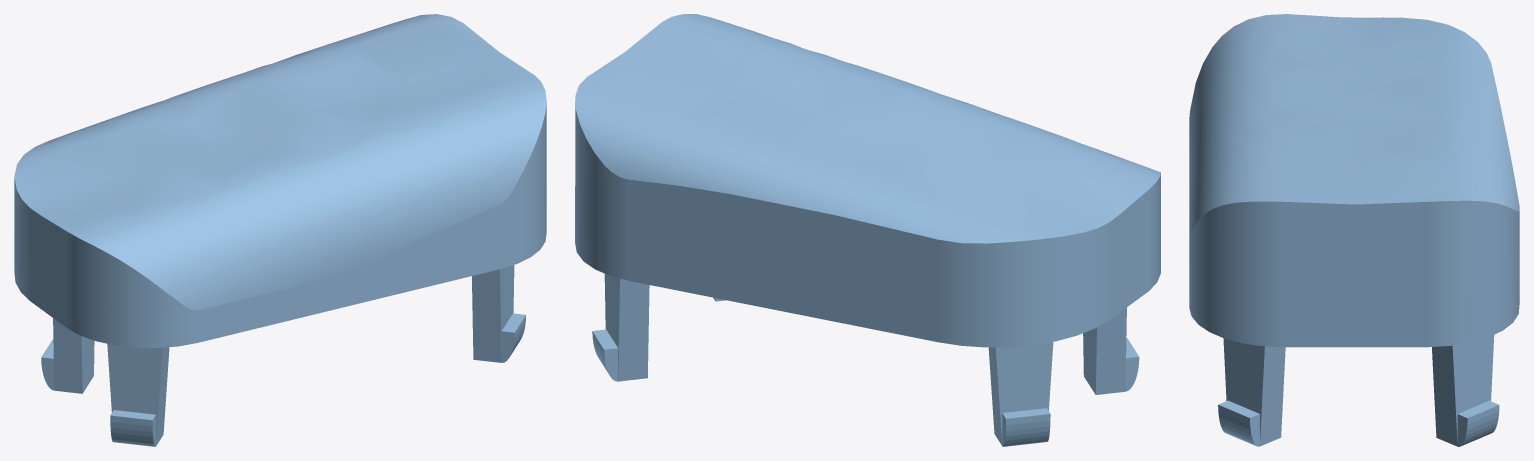
3 renders of one model, left to right at view 1: azimuth 30°, elevation 25°; view 2: azimuth 150°, elevation 25°; view 3: azimuth 270°, elevation 25°, orthographic. The views are drawn at different scales.
Visible parts, largest first — view 1: =>[0:1:1:2], =>[0:1:1:3], =>[0:1:1:4], =>[0:1:1:5]; view 2: =>[0:1:1:2], =>[0:1:1:5], =>[0:1:1:3]; view 3: =>[0:1:1:2], =>[0:1:1:4].
Part boxes in pixels (x1,y1,x2,y2): =>[0:1:1:2]: (14, 14, 546, 347); =>[0:1:1:3]: (107, 344, 169, 446); =>[0:1:1:4]: (472, 265, 525, 362); =>[0:1:1:5]: (41, 318, 94, 393); =>[0:1:1:2]: (575, 14, 1160, 381); =>[0:1:1:5]: (988, 342, 1053, 446); =>[0:1:1:3]: (1083, 307, 1139, 394); =>[0:1:1:2]: (1189, 14, 1519, 446); =>[0:1:1:4]: (1218, 338, 1285, 446).
Bounding box in the file's own units: 38.92 × 20.3 × 23.28.
